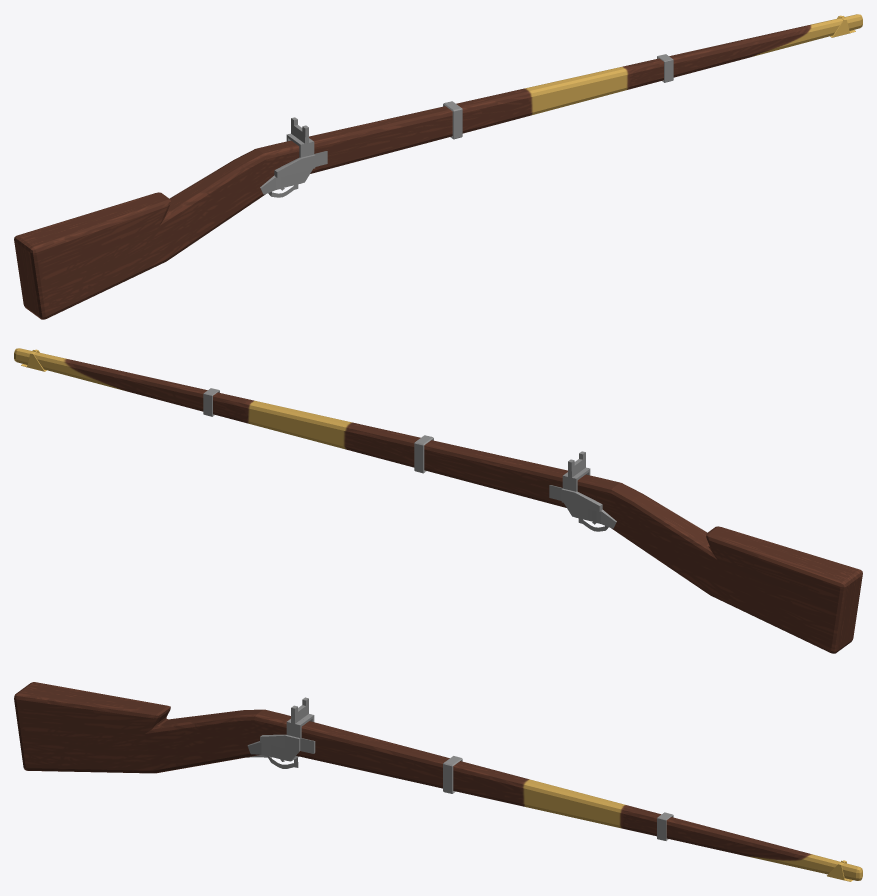
The model's file is Mosquete.fbx.
The picture shows the model from 3 angles, top to bottom: view 1: azimuth 30°, elevation 25°; view 2: azimuth 150°, elevation 25°; view 3: azimuth 330°, elevation 25°; orthographic projection.
Parts seen in each view (by area): view 1: Arma, Mira e Gatilho; view 2: Arma, Mira e Gatilho; view 3: Arma, Mira e Gatilho, Abracadeira.
Part boxes in pixels (bbox=[...]): Arma: bbox=[14, 14, 862, 319]; Mira e Gatilho: bbox=[260, 117, 327, 197]; Arma: bbox=[14, 348, 862, 653]; Mira e Gatilho: bbox=[549, 451, 616, 531]; Arma: bbox=[14, 682, 862, 880]; Mira e Gatilho: bbox=[246, 697, 315, 768]; Abracadeira: bbox=[443, 756, 462, 793].
Size of the model in its own units: 144 by 20.78 by 6.02.
Materials: 3 (1 with a texture image).
